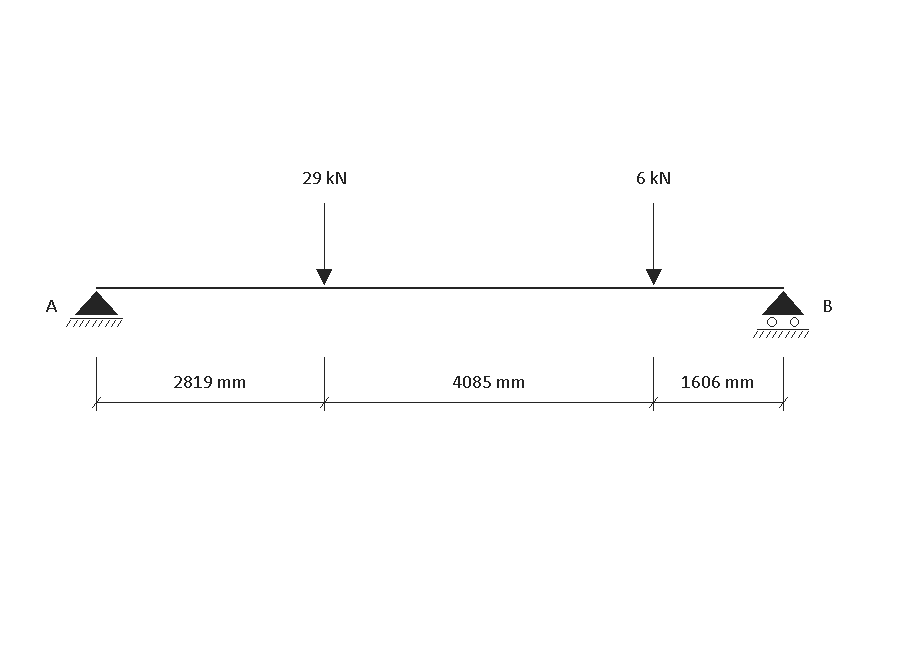pin_support: (66, 291, 123, 327)
point_load: (316, 203, 332, 285), (646, 203, 662, 285)
roller_support: (753, 291, 809, 338)
